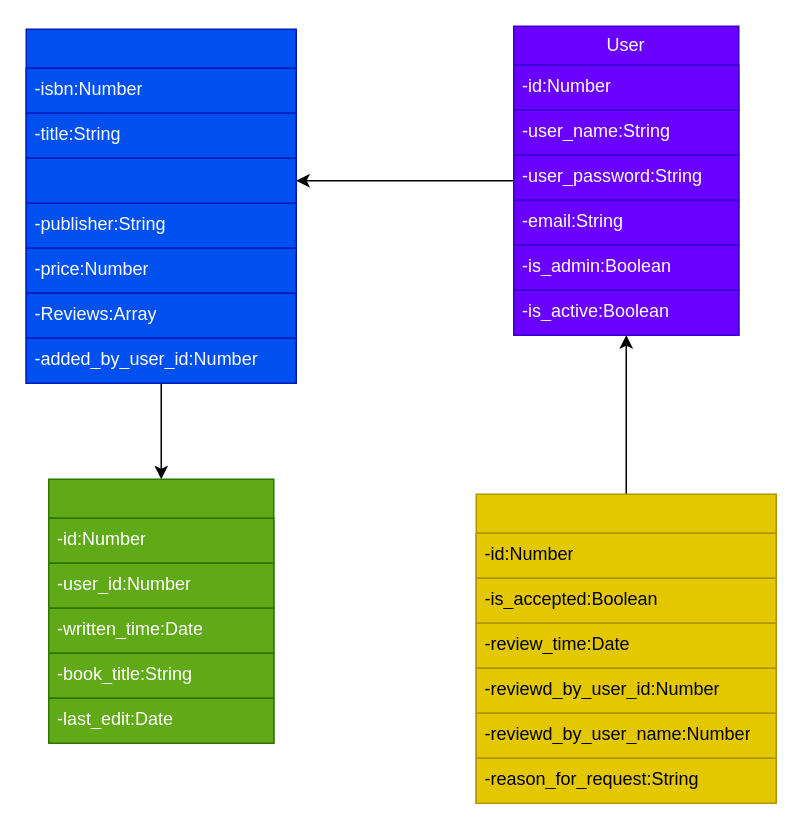
Some shapes in this 803 by 834 pixel diagram are drawn without their labels. The shapes that lost their labels are listed below. From the top down, each one's box as (x1, y1, x2, y2) in pixels, then its label:
(25, 157, 296, 203): -author:String
(25, 28, 296, 383): Book
(47, 478, 274, 743): Book_reviews
(475, 493, 776, 803): Admin_request
